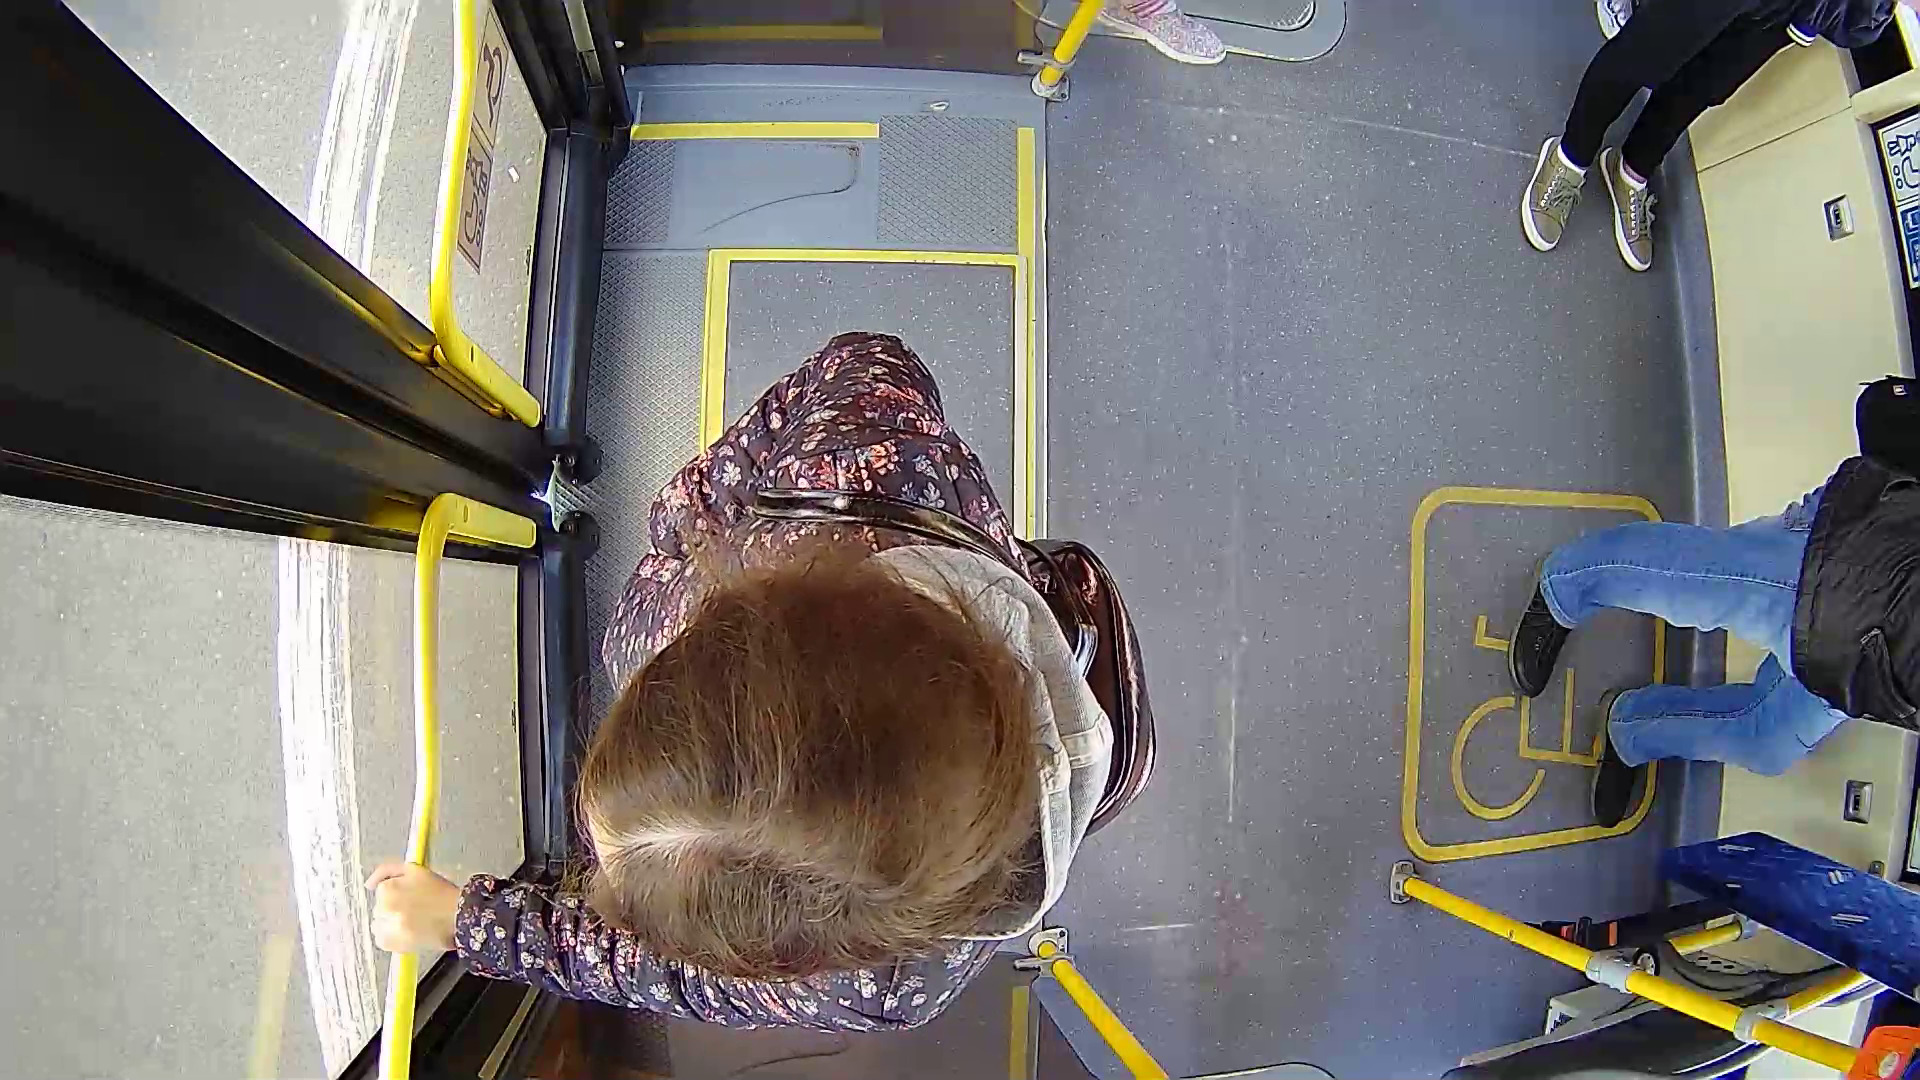person: (471, 376, 1115, 1020)
